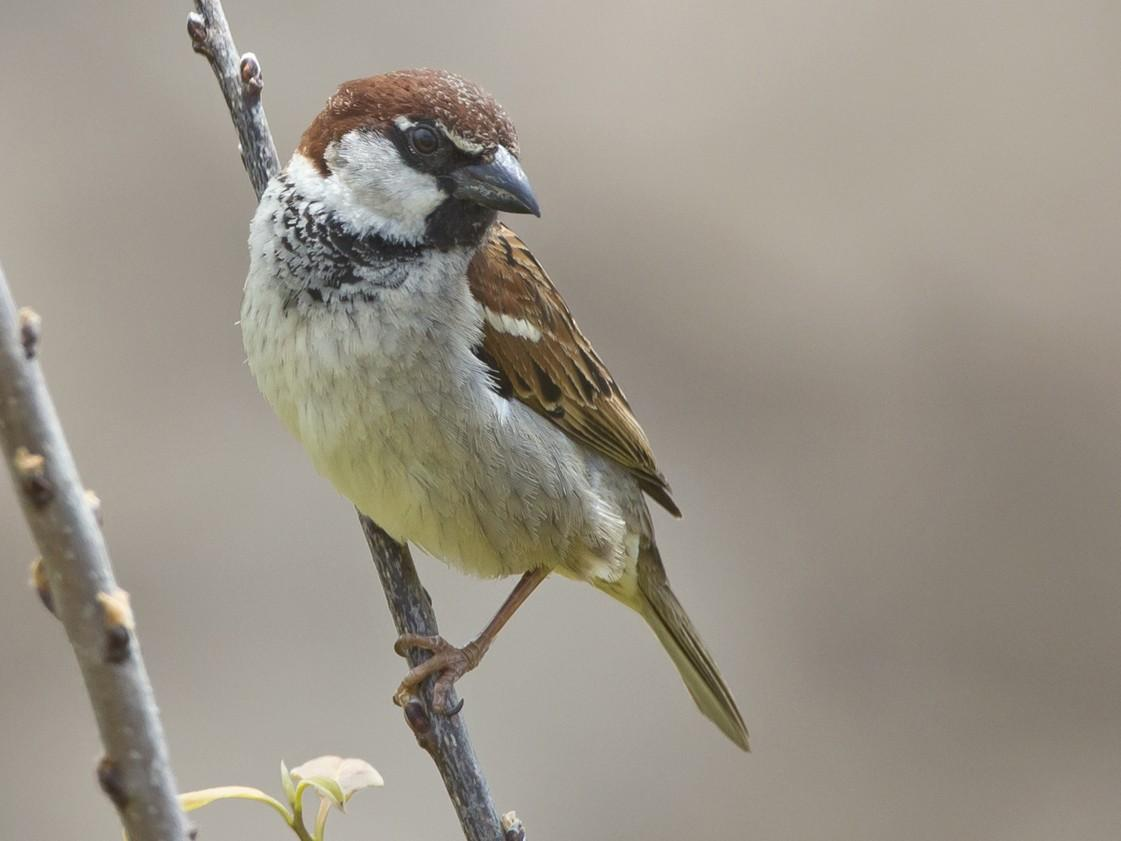bird: (241, 69, 750, 750)
